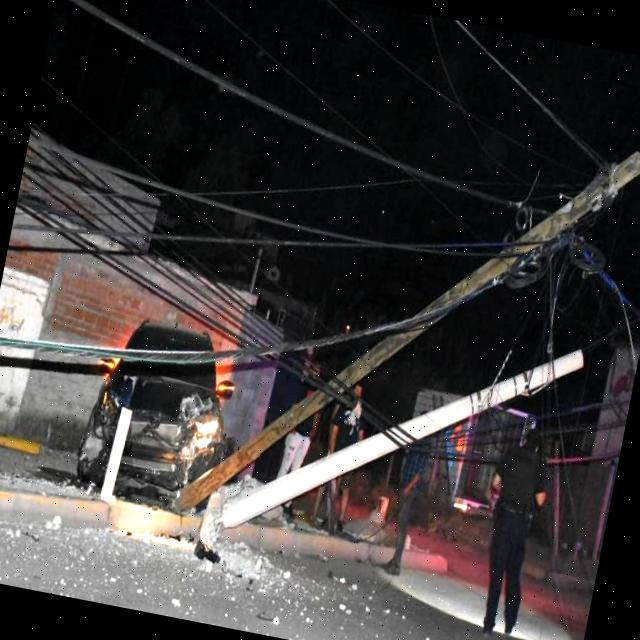Broken Pole: (176, 146, 640, 514), (219, 349, 584, 524)
